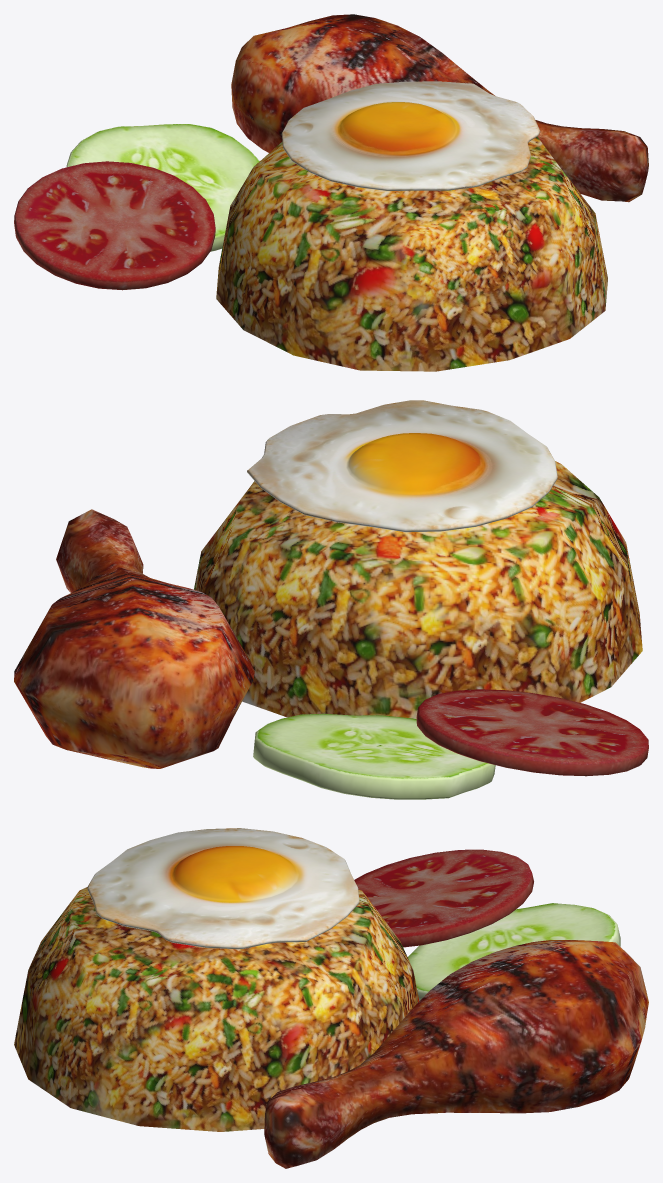
File: Nasi Goreng.fbx
3 renders of one model, top to bottom at view 1: azimuth 30°, elevation 25°; view 2: azimuth 150°, elevation 25°; view 3: azimuth 270°, elevation 25°, orthographic. The views are drawn at different scales.
Visible parts, largest first — view 1: Nasi Goreng; view 2: Nasi Goreng; view 3: Nasi Goreng.
Part boxes in pixels (x1=…): Nasi Goreng: x1=14, y1=14, x2=648, y2=371; Nasi Goreng: x1=14, y1=400, x2=648, y2=799; Nasi Goreng: x1=14, y1=828, x2=648, y2=1168.
Bounding box in the file's own units: 20.31 × 5.98 × 19.03.
Materials: 1 (1 with a texture image).
